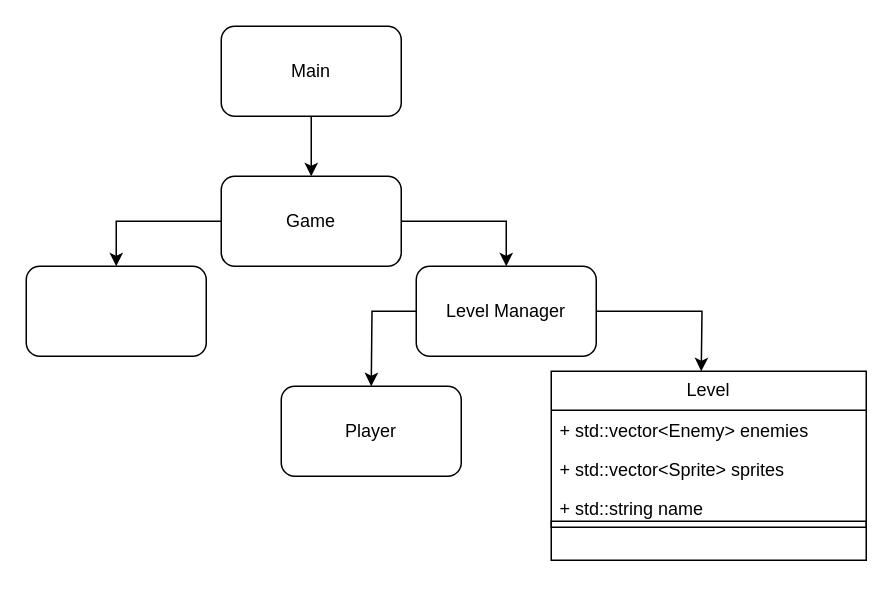
This 893x591 diagram has some shape labels left out. Here are the shapes that lost their labels. From the top down, the centre of each, then its label:
the point at 115,310: Display
the point at 708,540: + int MaxColours
